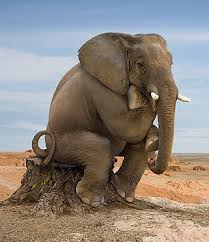Elephant: (29, 27, 188, 214)
